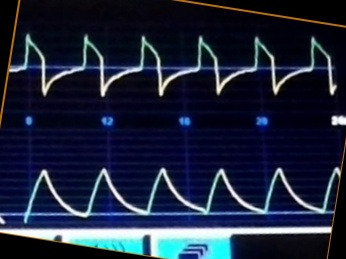Normal Flow: (15, 30, 338, 105)
Normal Volume: (1, 157, 333, 221)
